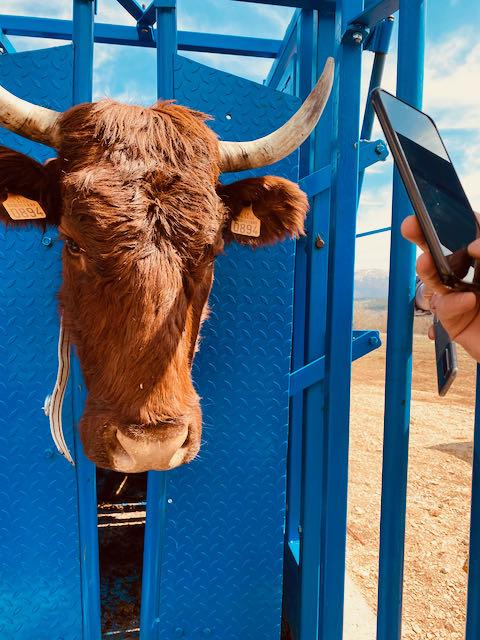muzzles: (76, 402, 207, 480)
